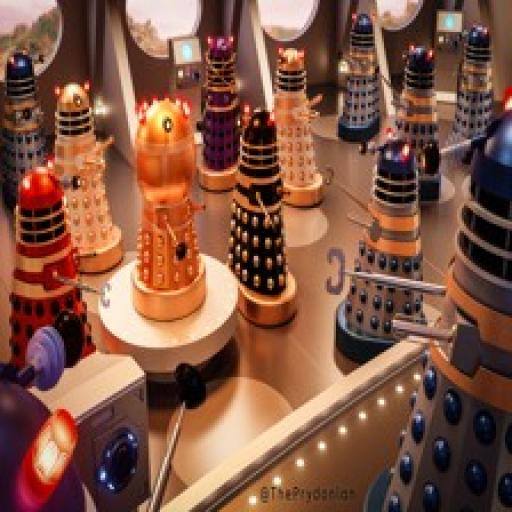dalek: (329, 89, 510, 512), (0, 308, 210, 507), (320, 131, 431, 361), (2, 162, 90, 370), (128, 98, 208, 322), (227, 108, 300, 328), (52, 82, 124, 270), (350, 116, 472, 200), (270, 45, 326, 203), (391, 43, 442, 196), (1, 50, 47, 212), (197, 34, 243, 190), (446, 22, 495, 150), (337, 12, 380, 144)
